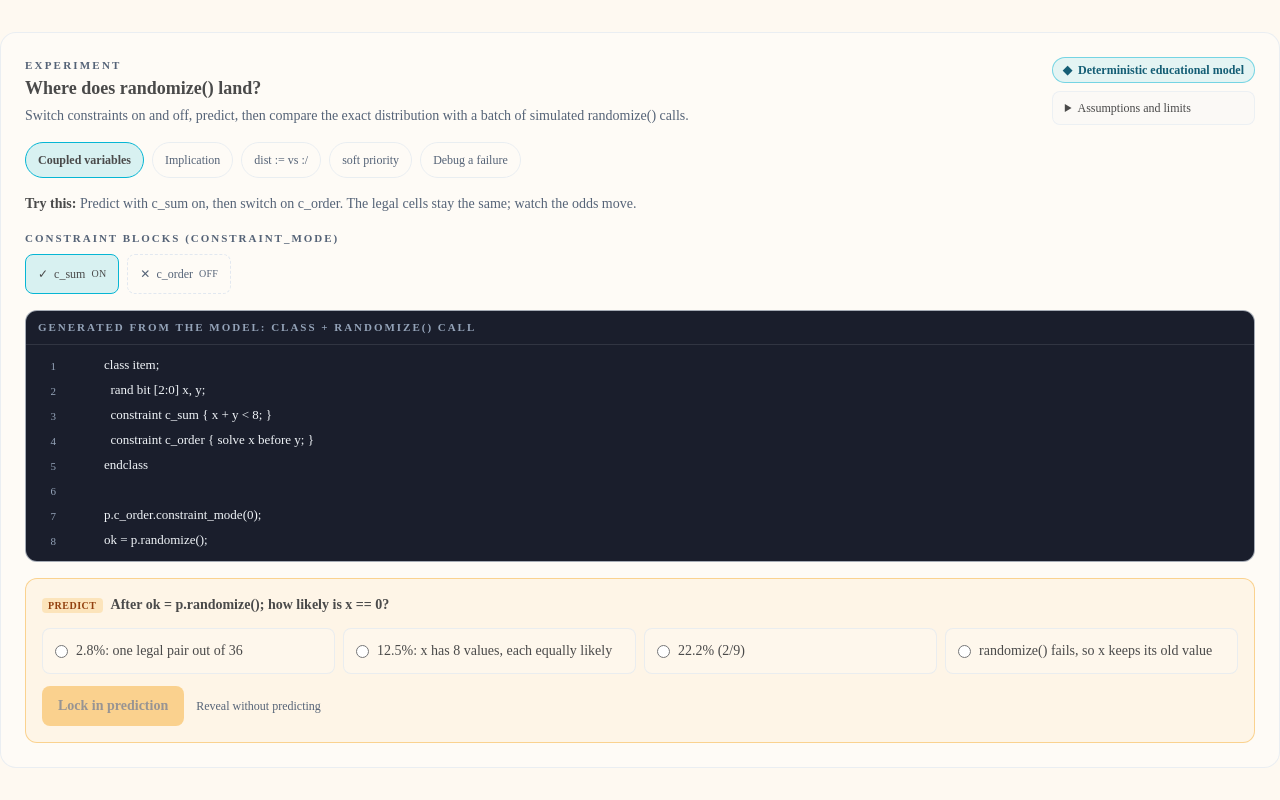
Test: ConstraintSolverHeatmapVisualizer › solve x before y changes the odds but not the legal cells, and re-asks for a prediction
expect the text "p.c_order.constraint_mode(0);" is shown: met, box [104,506,261,522]
Click the button with aria-label "Constraint c_order" at point(179, 274), box [127,254,231,294]
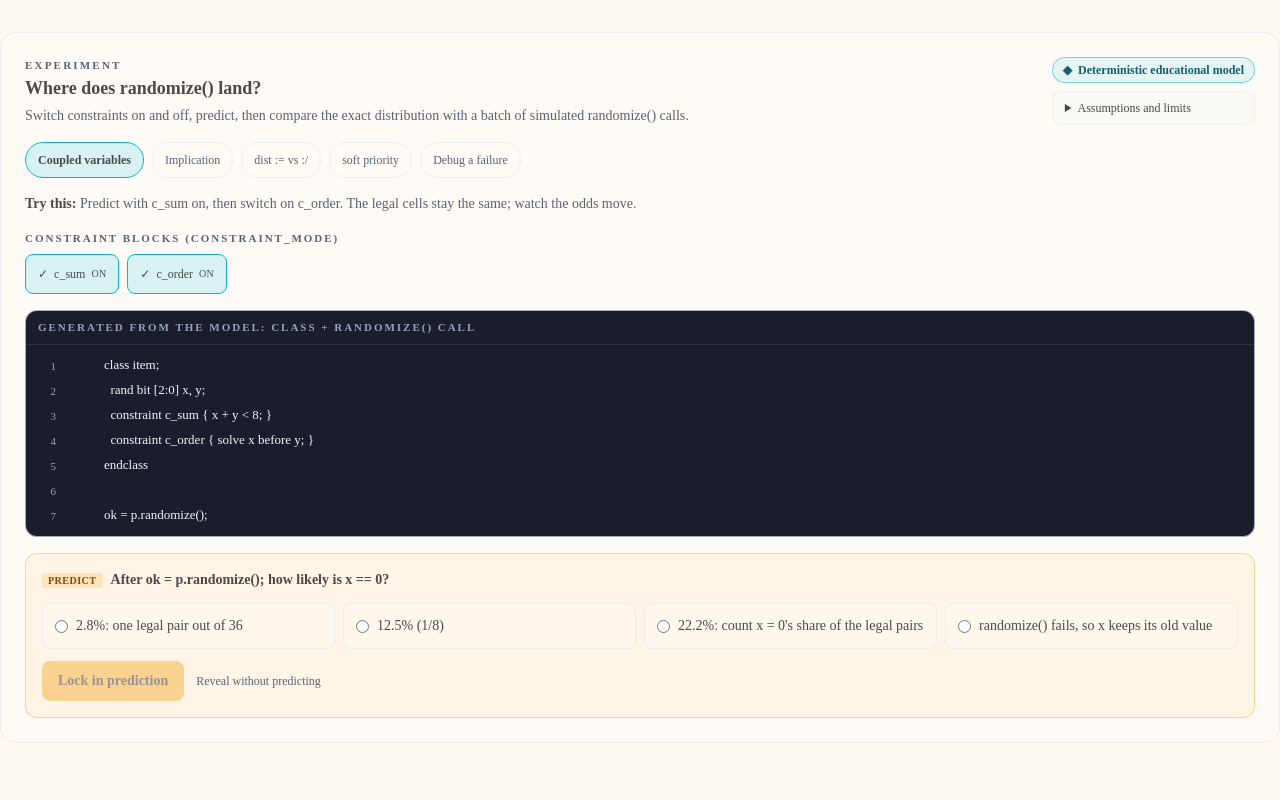
expect the text "p.c_order.constraint_mode(0);" is gone: met
Click the radio button labelled "22.2%: count x = 0's share of the legal pairs" at point(664, 626), box [657,620,670,632]
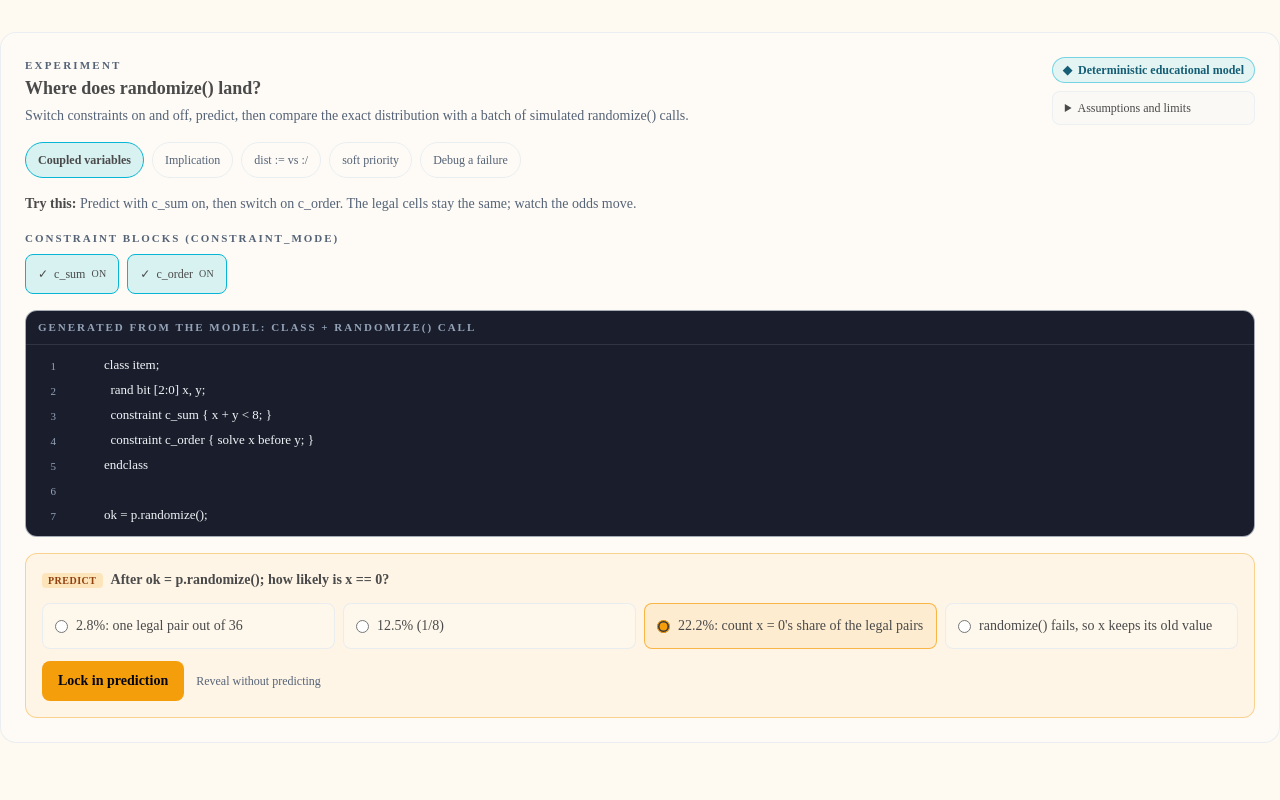
Click the button "Lock in prediction" at point(113, 680), box [42,660,184,700]
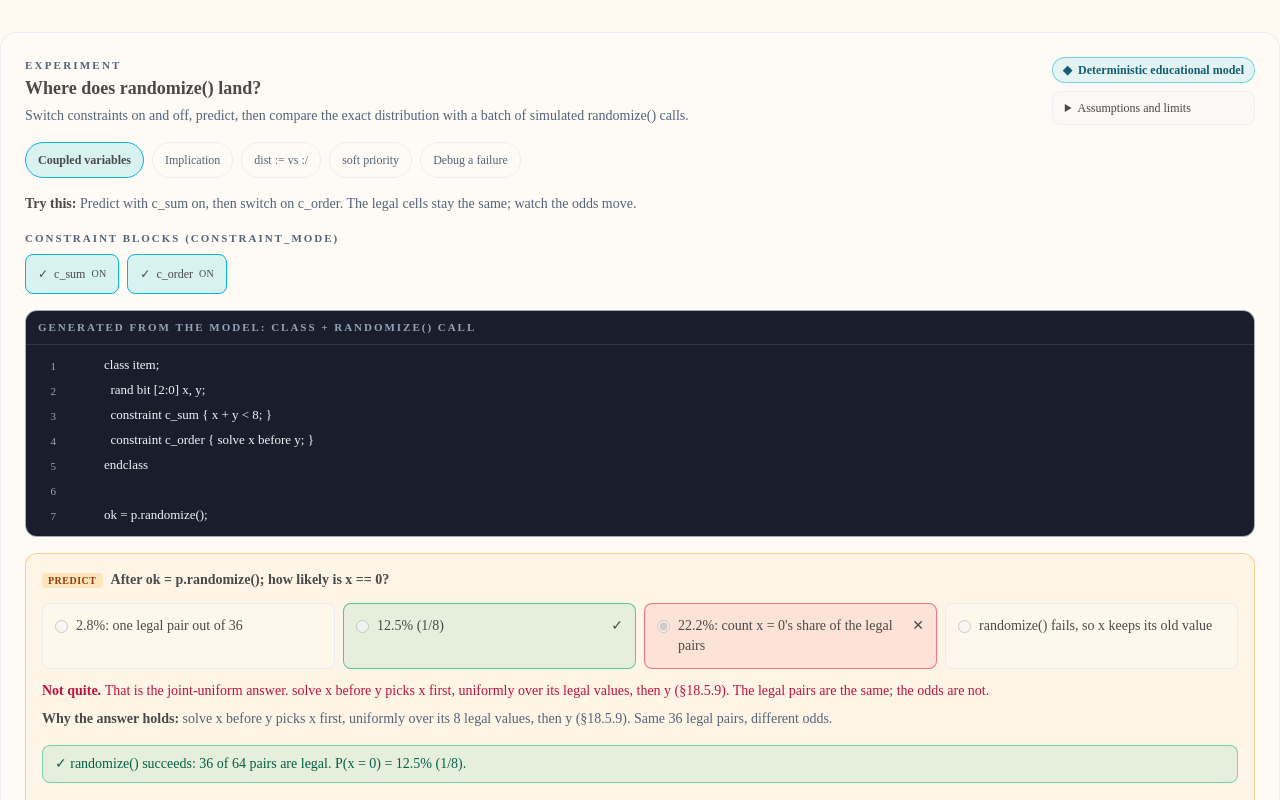
expect the text "That is the joint-uniform answer" is shown: met, box [105,682,989,698]
expect the text "36 of 64 pairs are legal. P(x = 0) = 12.5% (1/8)" is shown: met, box [42,744,1238,782]
Click the button with aria-label "Constraint c_order" at point(177, 274), box [127,254,227,294]
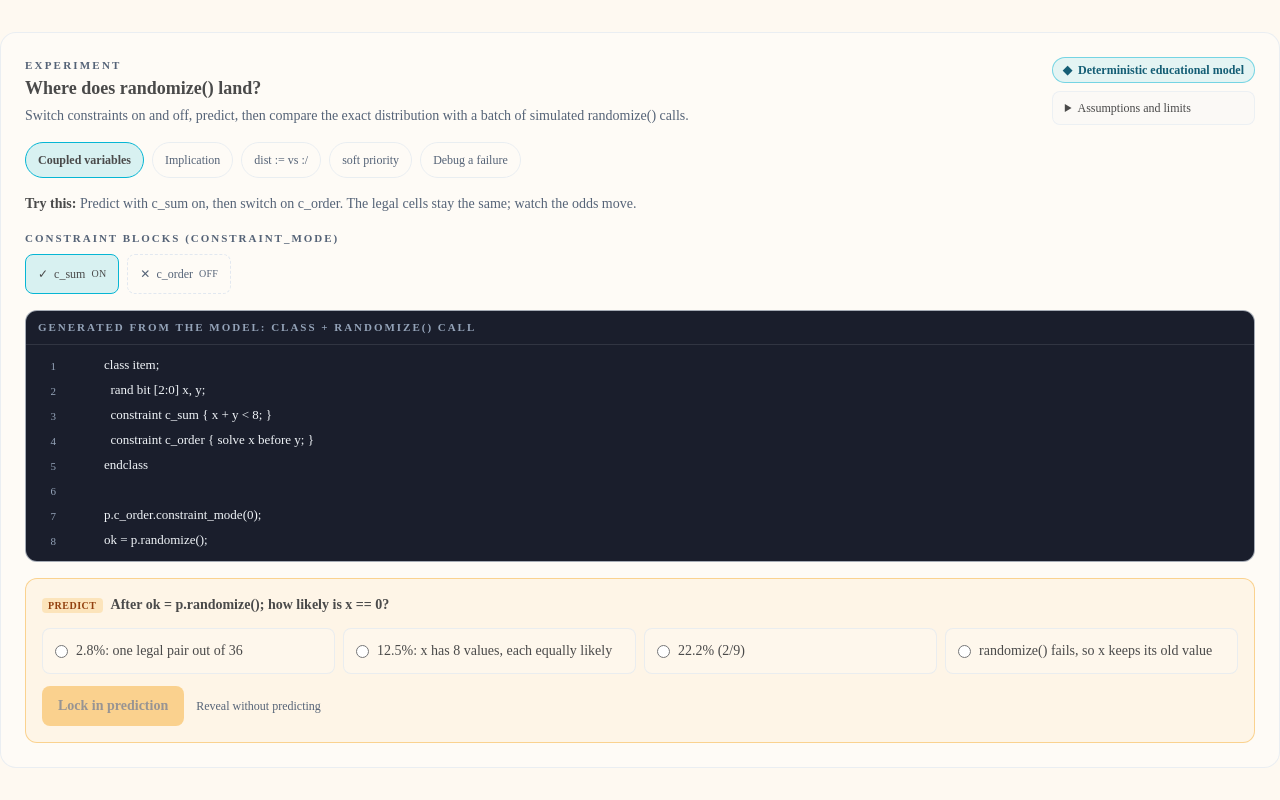
expect the button "Lock in prediction" is disabled: met, box [42,686,184,726]
